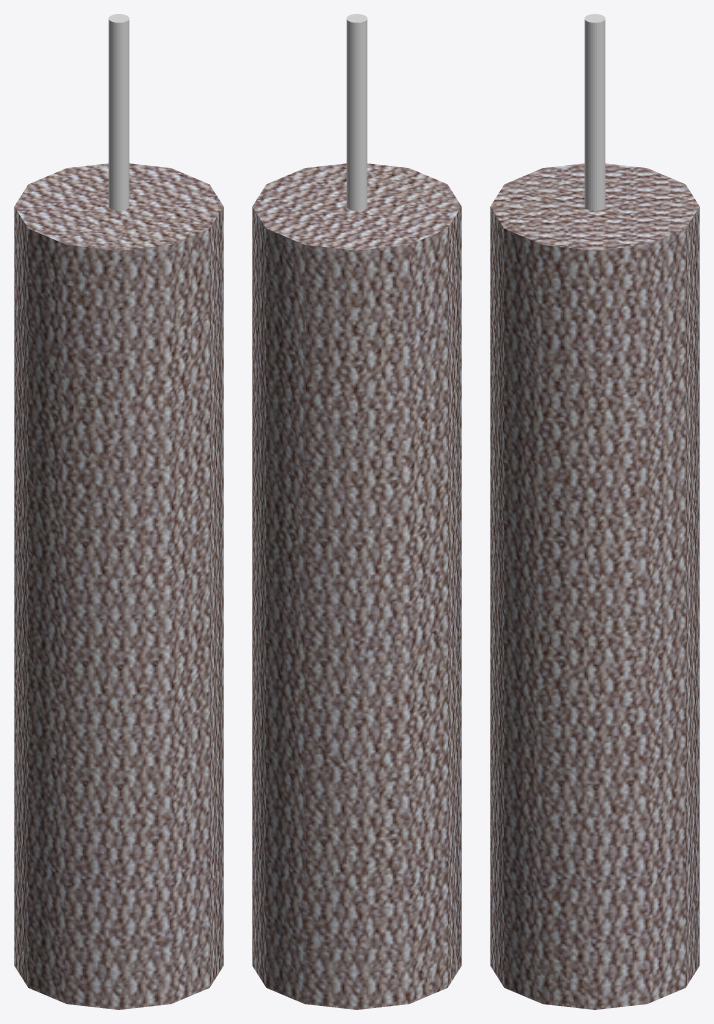
3 renders of one model, left to right at view 1: azimuth 30°, elevation 25°; view 2: azimuth 150°, elevation 25°; view 3: azimuth 270°, elevation 25°, orthographic.
Visible parts, largest first — view 1: Detail1, con1out; view 2: Detail1, con1out; view 3: Detail1, con1out.
Boxes of the visible parts, bbox=[...] form: Detail1: bbox=[14, 163, 223, 1009]; con1out: bbox=[108, 14, 129, 210]; Detail1: bbox=[252, 163, 461, 1009]; con1out: bbox=[346, 14, 367, 210]; Detail1: bbox=[490, 163, 699, 1009]; con1out: bbox=[584, 14, 605, 210].
Size of the model in its own units: 0.1 by 0.4991 by 0.1.
Materials: 1 (1 with a texture image).
